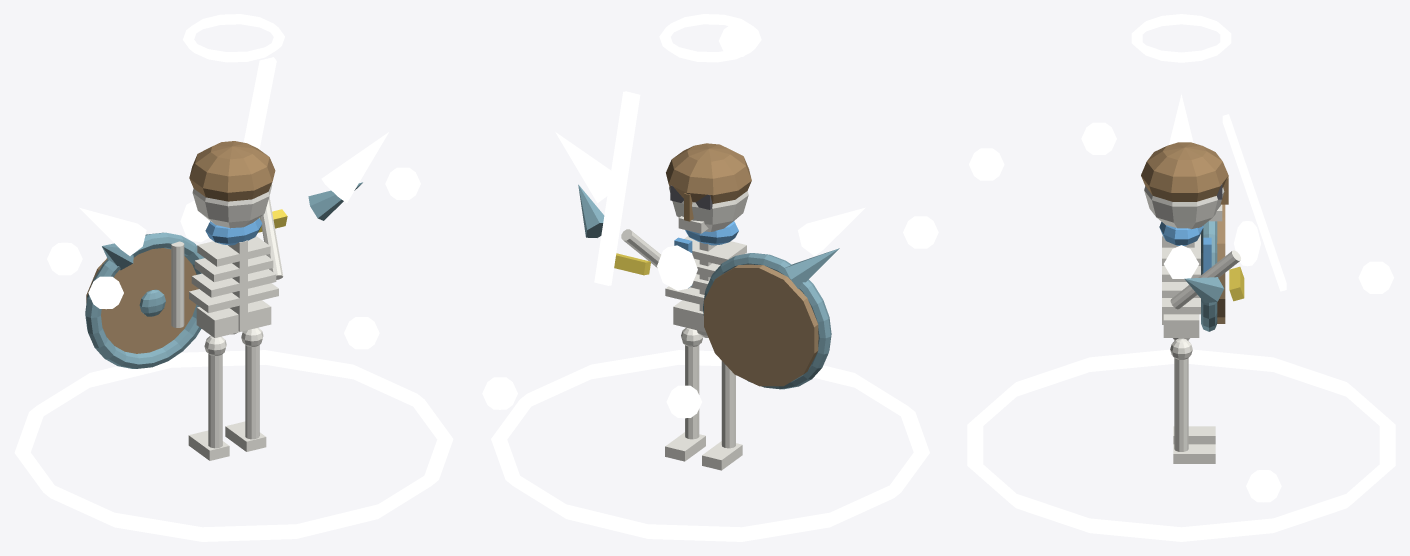
File: evolved_skeleton_army.glb
3 renders of one model, left to right at view 1: azimuth 30°, elevation 25°; view 2: azimuth 150°, elevation 25°; view 3: azimuth 270°, elevation 25°, orthographic.
Visible parts, largest first — view 1: evolved_skeleton_army; view 2: evolved_skeleton_army; view 3: evolved_skeleton_army.
Part boxes in pixels (<box>): evolved_skeleton_army: <box>14,14,453,541</box>; evolved_skeleton_army: <box>482,14,938,541</box>; evolved_skeleton_army: <box>967,14,1395,541</box>.
Bounding box in the file's own units: 2.97 × 3.13 × 2.9.
